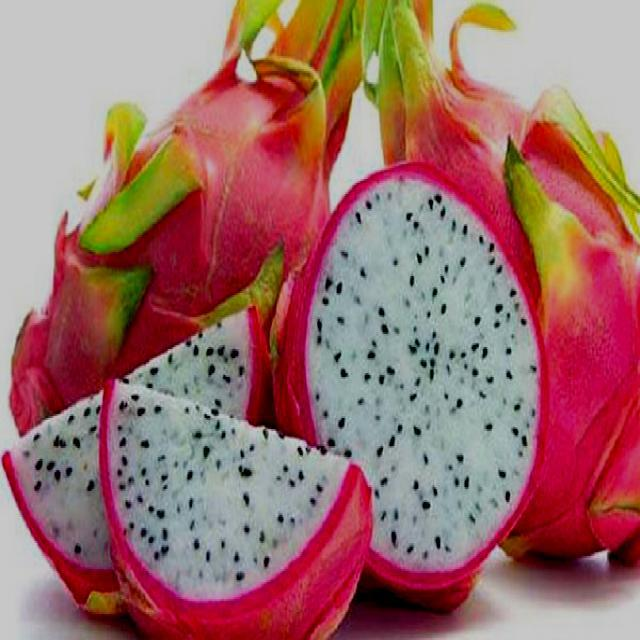trang: (349, 0, 639, 571), (5, 1, 359, 464), (272, 170, 552, 602), (0, 300, 264, 616), (102, 378, 372, 638)
